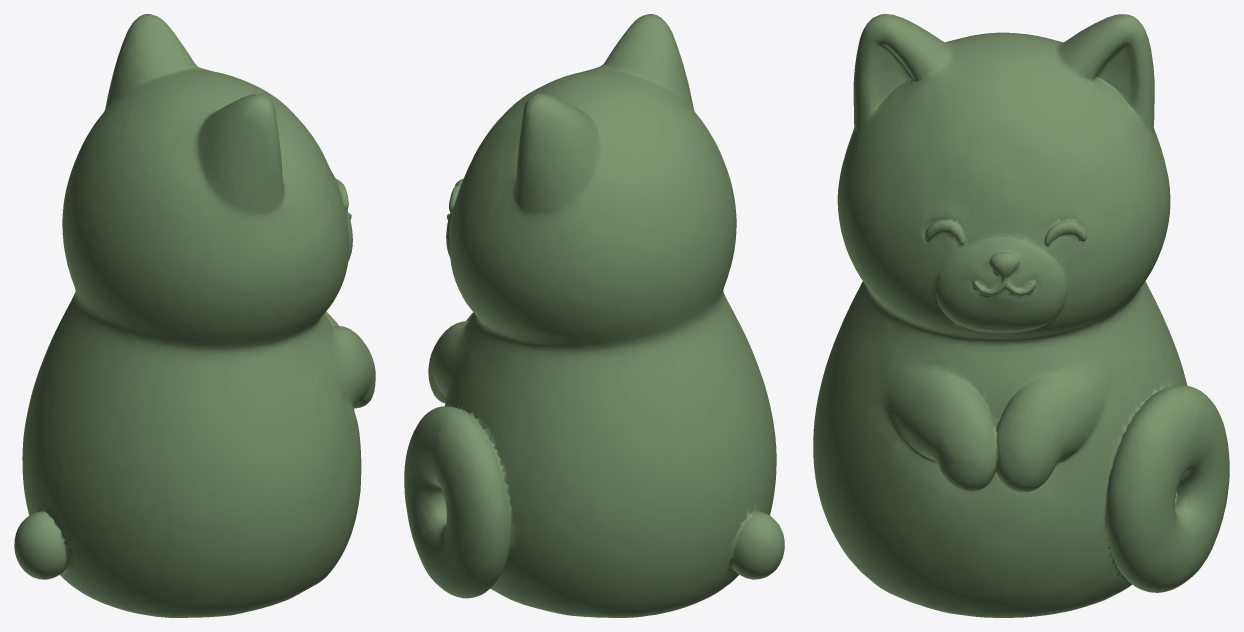
The model's file is cozy-cat.glb.
The picture shows the model from 3 angles, left to right: view 1: azimuth 30°, elevation 25°; view 2: azimuth 150°, elevation 25°; view 3: azimuth 270°, elevation 25°; orthographic projection. The views are drawn at different scales.
Parts seen in each view (by area): view 1: tripo_printable_source; view 2: tripo_printable_source; view 3: tripo_printable_source.
Part boxes in pixels (box(x1,y1,x2,y2)): tripo_printable_source: box(14, 14, 375, 617); tripo_printable_source: box(404, 14, 784, 617); tripo_printable_source: box(813, 14, 1229, 617).
Bounding box in the file's own units: 70 × 100 × 68.62.
